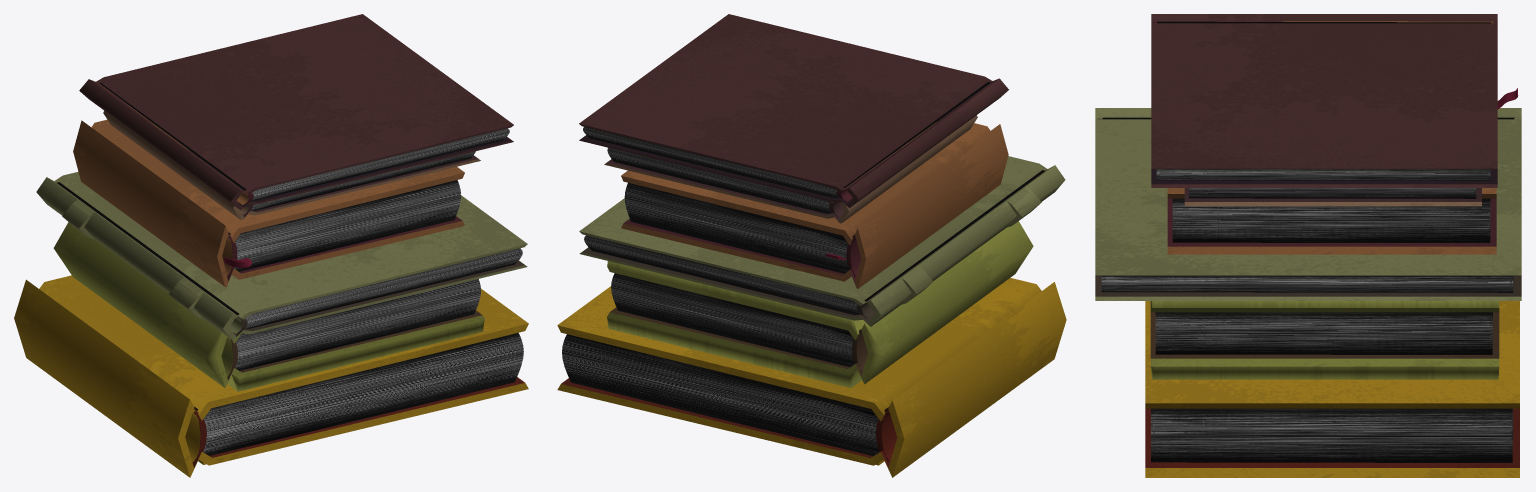
Rendered from NeatBookStack.fbx.
3 renders of one model, left to right at view 1: azimuth 30°, elevation 25°; view 2: azimuth 150°, elevation 25°; view 3: azimuth 270°, elevation 25°, orthographic. The views are drawn at different scales.
Parts seen in each view (by area): view 1: pCube69, pCube126, pCube14, pCube72, pages46, pCube11, pages17, pages15, pages16, pages9, pCube70, pages10 (+1 smaller); view 2: pCube69, pCube126, pCube11, pCube72, pCube14, pages46, pages15, pages17, pages16, pages9, pages10, pCube70 (+1 smaller); view 3: pCube69, pCube14, pCube126, pages46, pages15, pCube11, pages17, pages16, pCube72, pages9, pages10, pCube70.
Part boxes in pixels (<box>): pCube69: <box>79,14,513,209</box>; pCube126: <box>14,275,528,477</box>; pCube14: <box>36,172,527,340</box>; pCube72: <box>73,119,464,286</box>; pages46: <box>194,333,523,455</box>; pCube11: <box>53,222,484,391</box>; pages17: <box>229,180,460,271</box>; pages15: <box>235,279,480,370</box>; pages16: <box>57,182,522,328</box>; pages9: <box>99,82,509,200</box>; pCube70: <box>103,111,480,220</box>; pages10: <box>251,151,475,210</box>; pCube69: <box>579,14,1008,207</box>; pCube126: <box>557,278,1066,477</box>; pCube11: <box>607,221,1033,387</box>; pCube72: <box>621,123,1008,288</box>; pCube14: <box>579,156,1065,326</box>; pages46: <box>562,334,888,455</box>; pages15: <box>611,273,854,366</box>; pages17: <box>624,183,854,273</box>; pages16: <box>584,170,1045,314</box>; pages9: <box>583,82,990,198</box>; pages10: <box>607,147,831,213</box>; pCube70: <box>604,115,977,223</box>; pCube69: <box>1151,14,1497,187</box>; pCube14: <box>1095,108,1521,300</box>; pCube126: <box>1145,301,1519,477</box>; pages46: <box>1151,408,1512,462</box>; pages15: <box>1155,312,1492,354</box>; pCube11: <box>1150,301,1499,379</box>; pages17: <box>1172,198,1490,242</box>; pages16: <box>1101,117,1514,292</box>; pCube72: <box>1167,188,1496,254</box>; pages9: <box>1156,21,1491,180</box>; pages10: <box>1189,188,1476,198</box>; pCube70: <box>1184,188,1481,206</box>.
Size of the model in its own units: 0.8927 by 0.6638 by 0.822.
